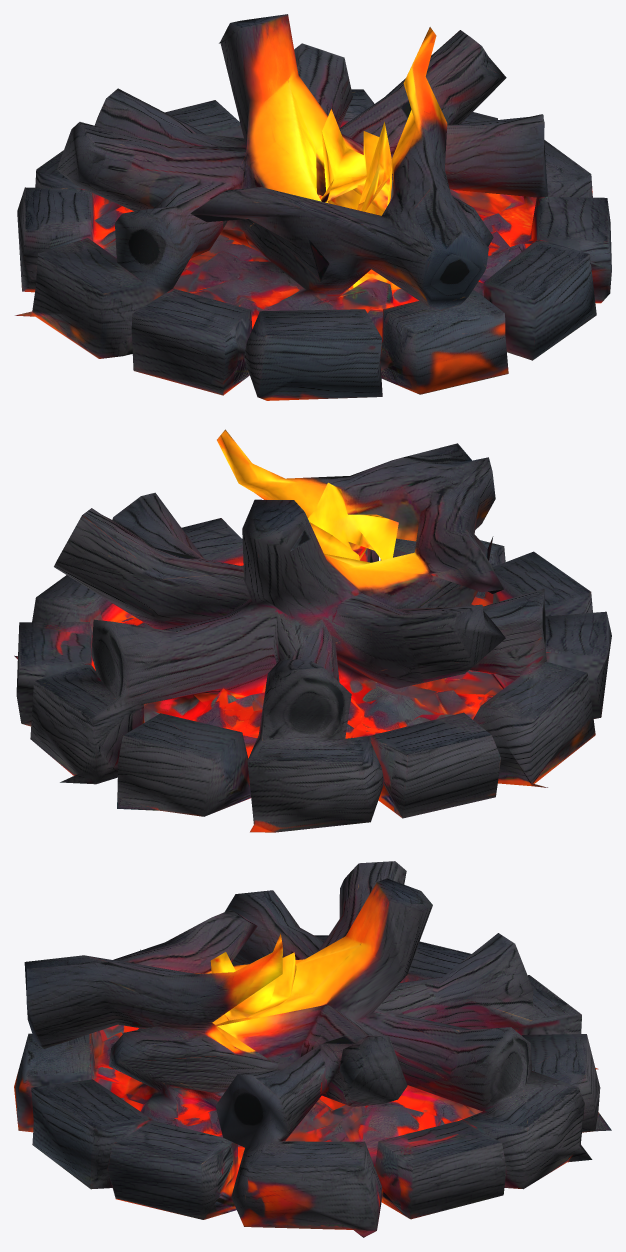
Rendered from prop-campfire-glow.glb.
3 renders of one model, top to bottom at view 1: azimuth 30°, elevation 25°; view 2: azimuth 150°, elevation 25°; view 3: azimuth 270°, elevation 25°, orthographic. The views are drawn at different scales.
Bounding box in the file's own units: 2 × 0.8497 × 2.
1 material, 1 textured.
